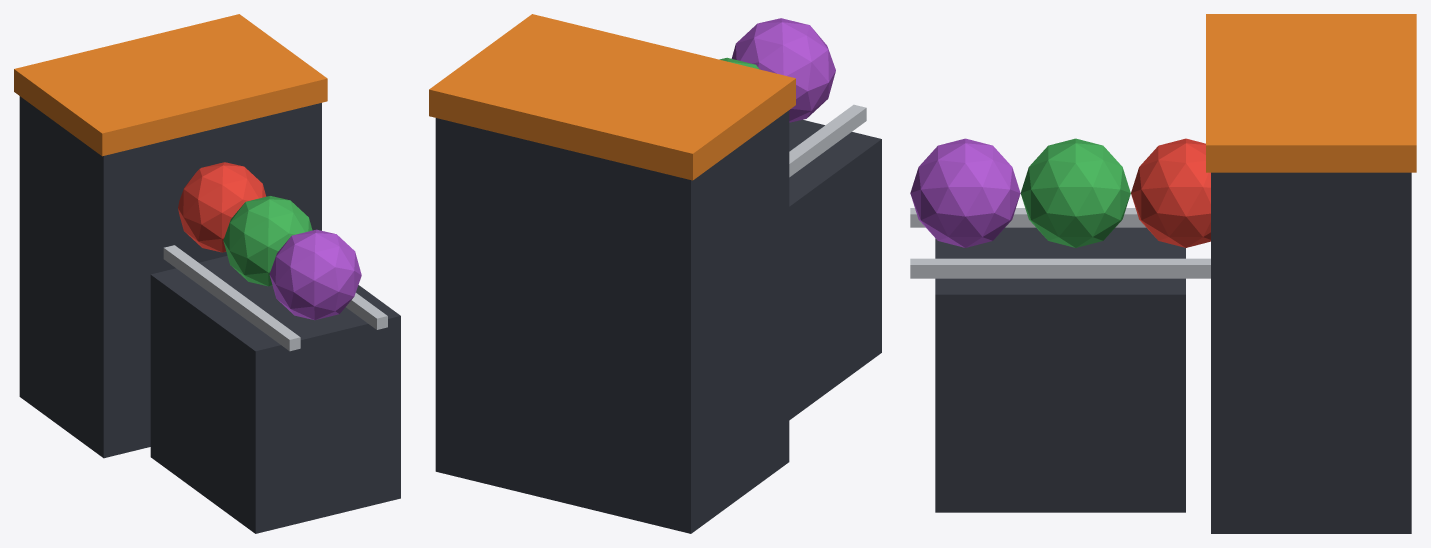
The model's file is ball_return.glb.
The picture shows the model from 3 angles, left to right: view 1: azimuth 30°, elevation 25°; view 2: azimuth 150°, elevation 25°; view 3: azimuth 270°, elevation 25°; orthographic projection. The views are drawn at different scales.
Visible parts, largest first — view 1: hood_return_body, legs_return_body, top_return_orange, ball, rail_return_chrome; view 2: hood_return_body, top_return_orange, legs_return_body, ball, rail_return_chrome; view 3: hood_return_body, legs_return_body, top_return_orange, ball, rail_return_chrome.
Boxes of the visible parts, box(x1,y1,x2,y2) form: hood_return_body: box(19, 96, 321, 458); legs_return_body: box(150, 256, 400, 533); top_return_orange: box(14, 14, 327, 156); ball: box(178, 162, 361, 320); rail_return_chrome: box(163, 245, 387, 351); hood_return_body: box(435, 110, 789, 533); top_return_orange: box(429, 14, 795, 180); legs_return_body: box(789, 119, 881, 420); ball: box(719, 18, 835, 122); rail_return_chrome: box(789, 104, 866, 177); hood_return_body: box(1211, 172, 1411, 533); legs_return_body: box(935, 227, 1185, 512); top_return_orange: box(1206, 14, 1416, 172); ball: box(910, 138, 1210, 247); rail_return_chrome: box(910, 208, 1210, 278).
Size of the model in its own units: 0.62 by 0.86 by 1.01.
